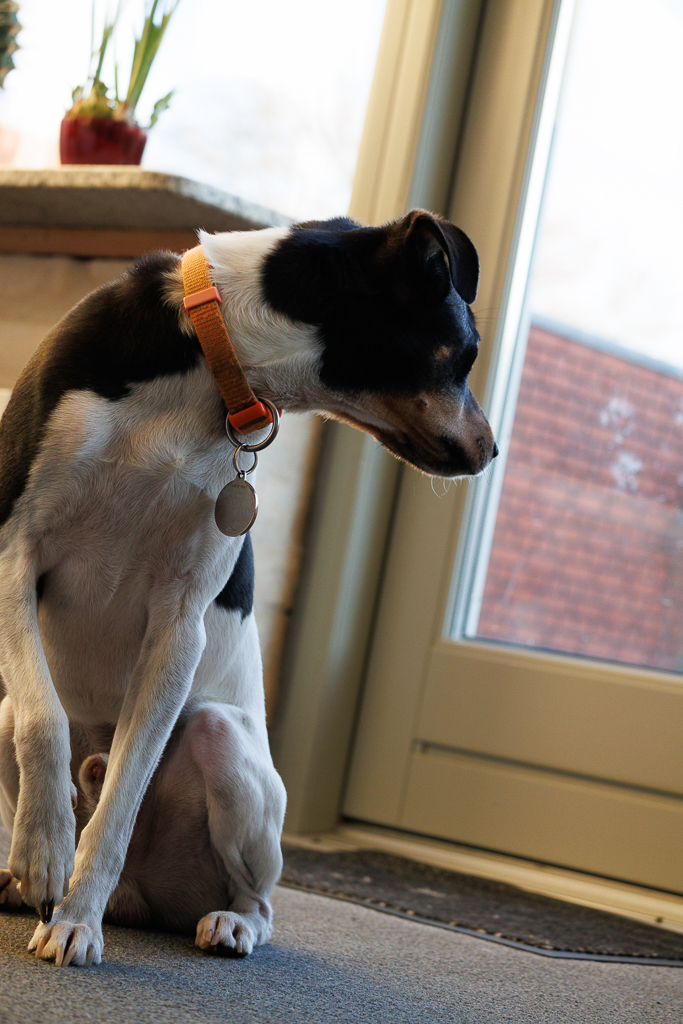Dog: (0, 193, 518, 977)
